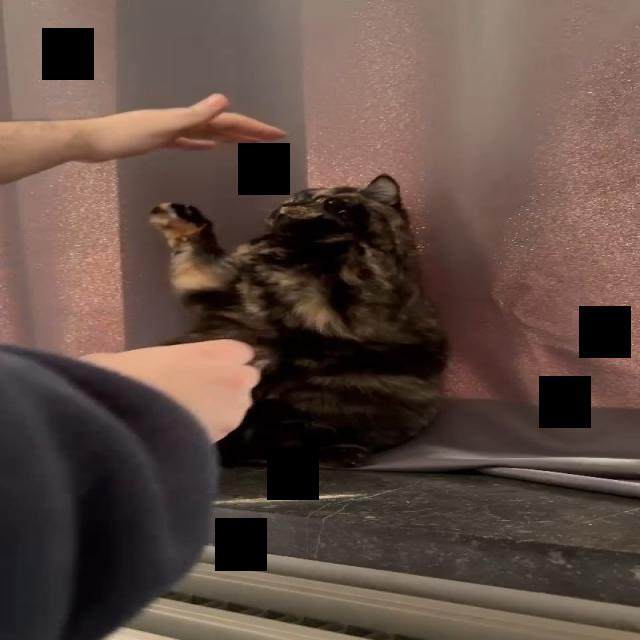authorized: (147, 173, 450, 469)
